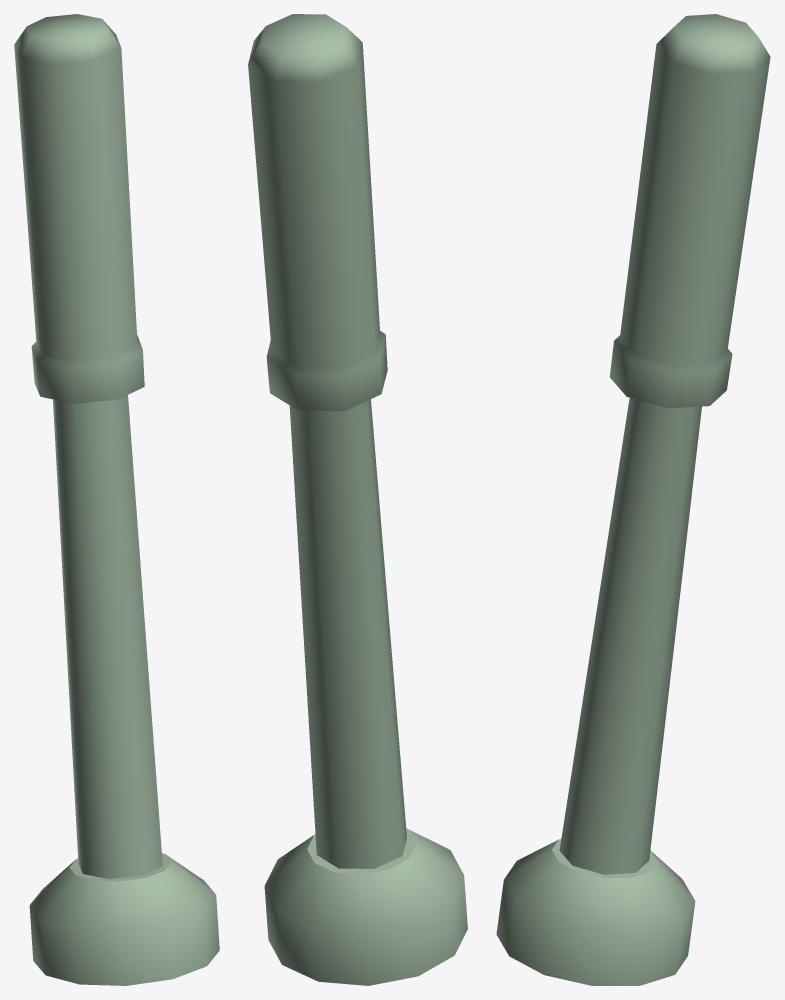
The model's file is AdamLZ_E36_Inside_Shifter.fbx.
3 views of the same model, side by side, from view 1: azimuth 30°, elevation 25°; view 2: azimuth 150°, elevation 25°; view 3: azimuth 270°, elevation 25° (orthographic). The views are drawn at different scales.
Visible parts, largest first — view 1: AdamLZ_E36_Inside_Shifter; view 2: AdamLZ_E36_Inside_Shifter; view 3: AdamLZ_E36_Inside_Shifter.
Part boxes in pixels (<box>): AdamLZ_E36_Inside_Shifter: <box>14,14,219,985</box>; AdamLZ_E36_Inside_Shifter: <box>248,14,467,985</box>; AdamLZ_E36_Inside_Shifter: <box>496,14,770,985</box>.
Bounding box in the file's own units: 6.49 × 34.44 × 9.21.
